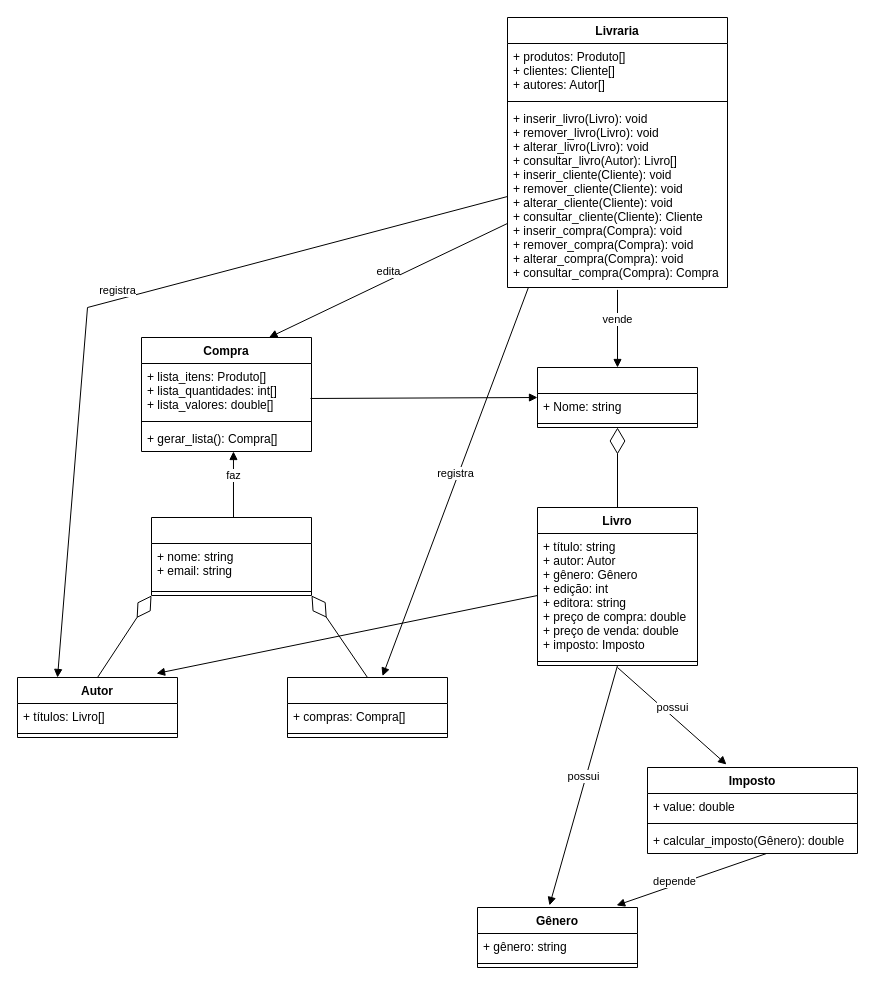
Image size: 875x985. Some labels were removed from this diagram. Here are the shapes that lost their labels. From the top down, the box of each, then its label:
(536, 366, 698, 428): Produto
(150, 516, 312, 596): Pessoa
(286, 676, 448, 738): Cliente
